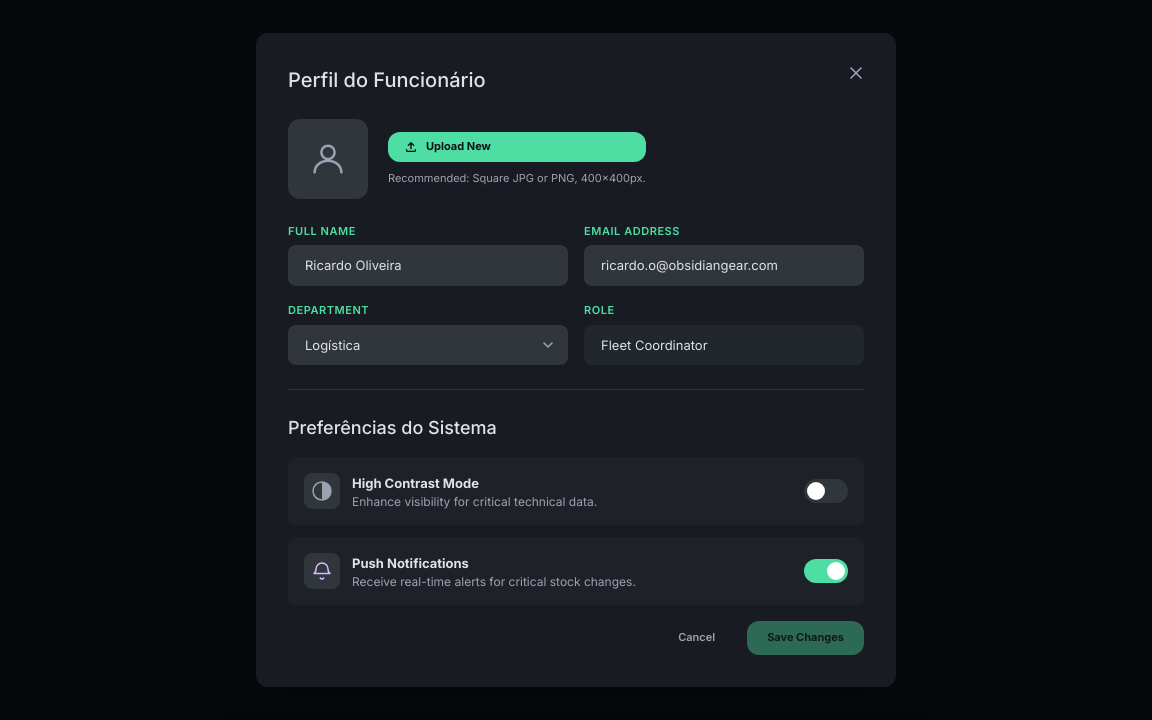
Test: EmployeeProfileModal — 6.2 Save Changes › toast "Perfil atualizado com sucesso" aparece após salvar
Type " v2" into the field labelled "Full Name" at (428, 266), box x1=288 y1=245 x2=568 y2=286
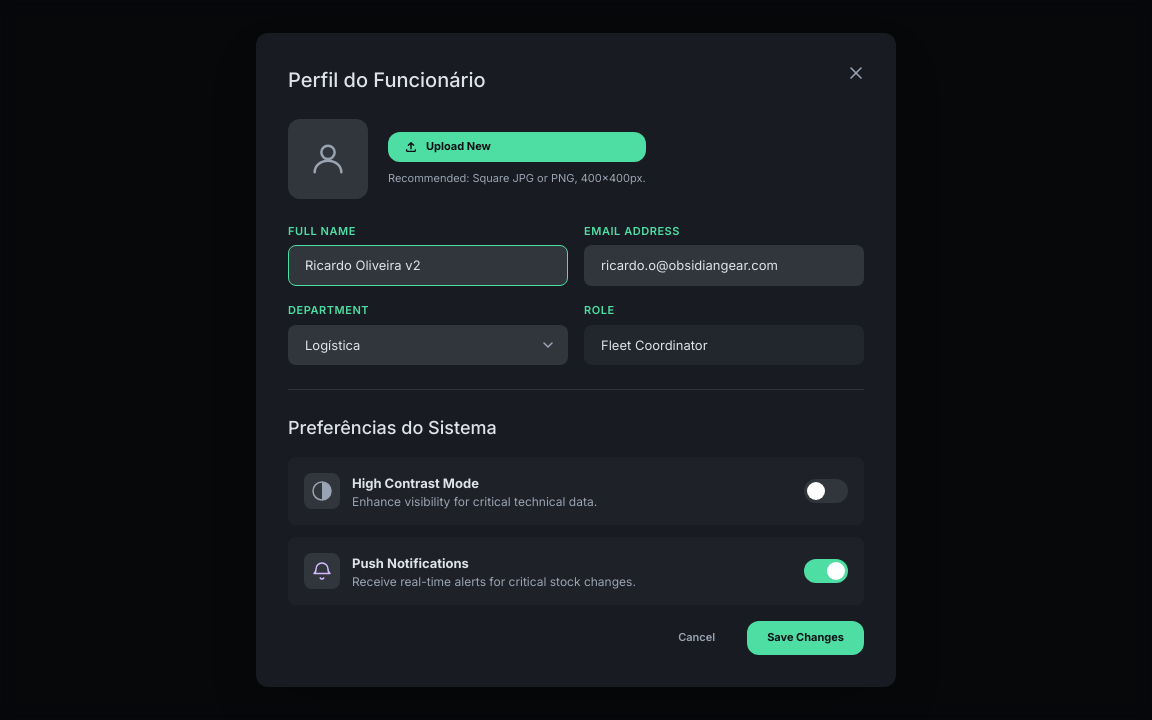
Click the button with aria-label "salvar" at (806, 638), box x1=747 y1=622 x2=864 y2=655
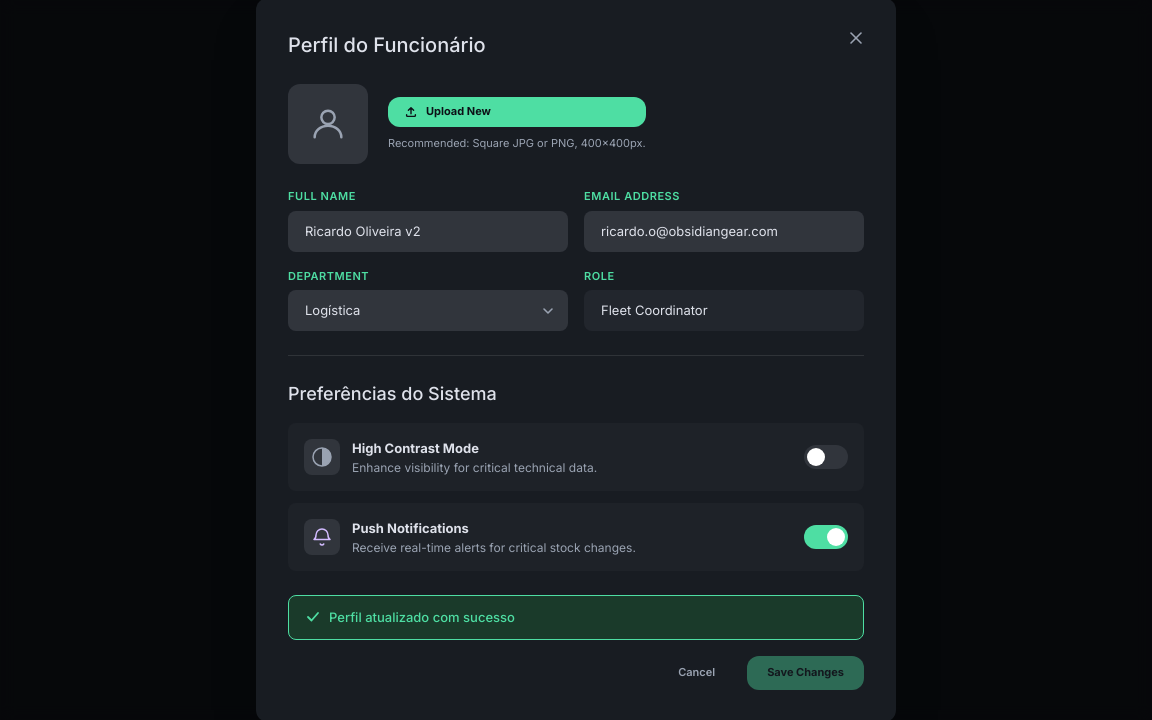
Expected: the text "Perfil atualizado com sucesso" is shown, x1=288 y1=595 x2=864 y2=640
